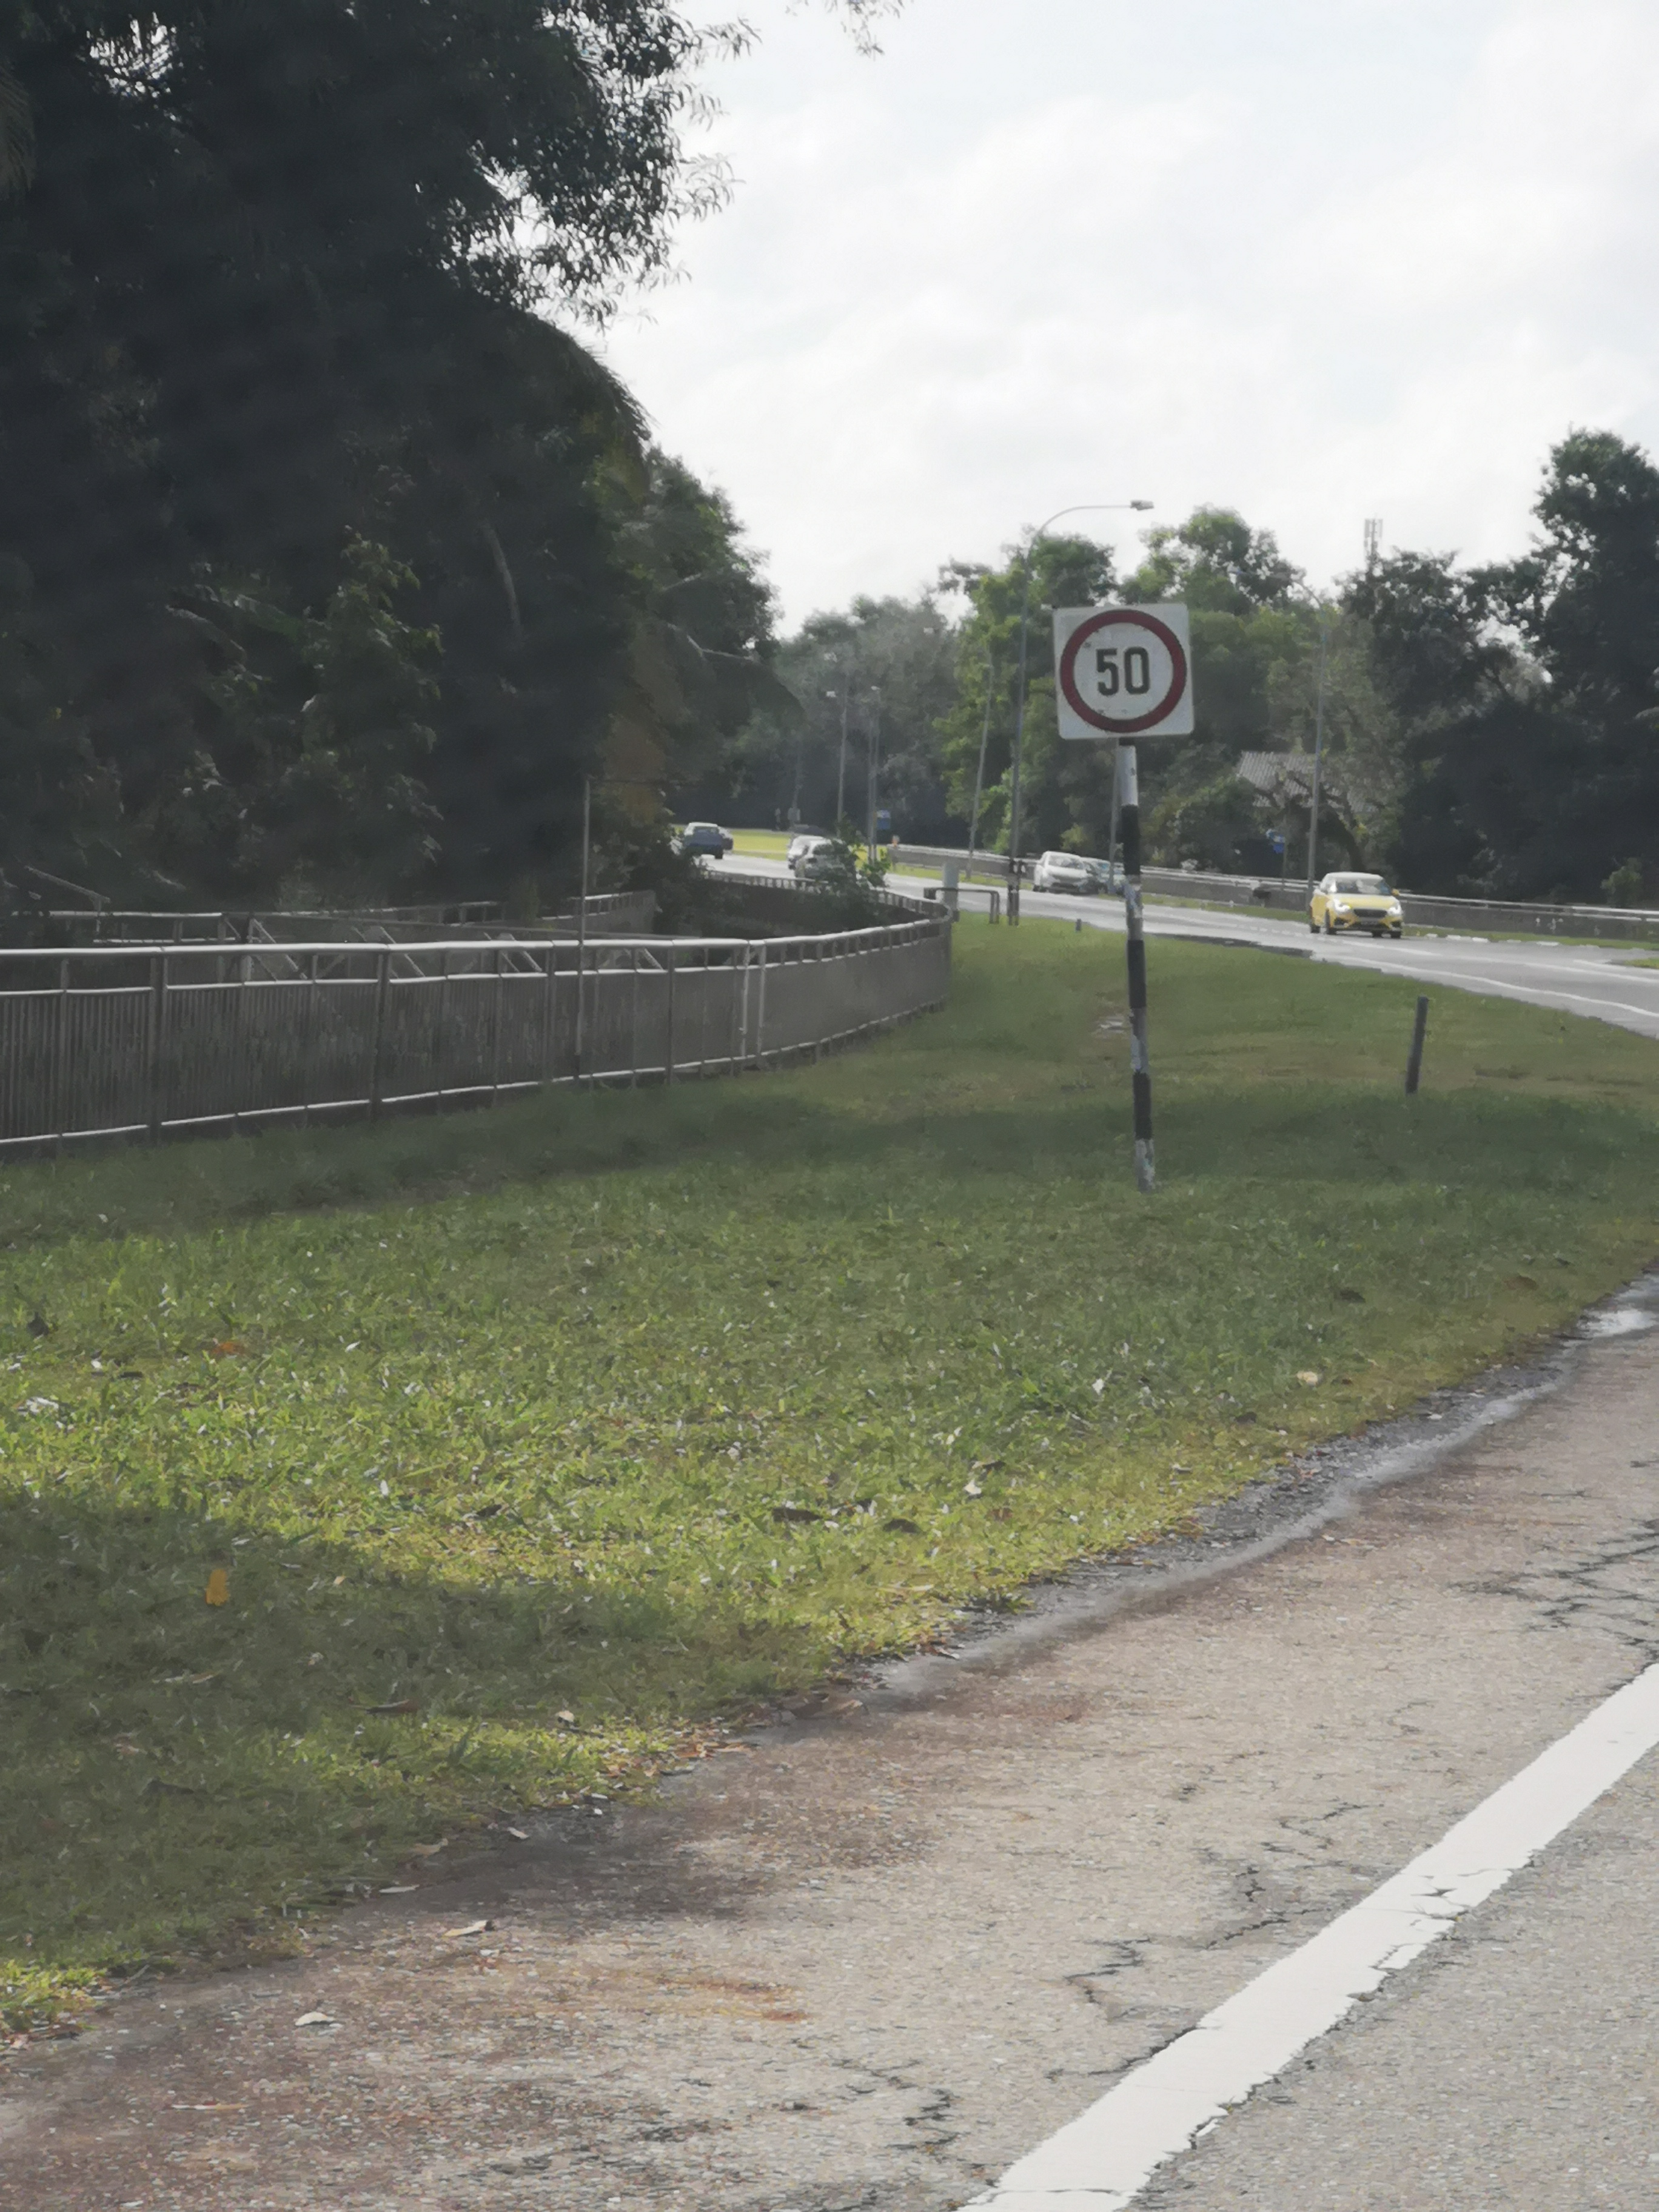speed limit 50: (1051, 597, 1201, 740)
